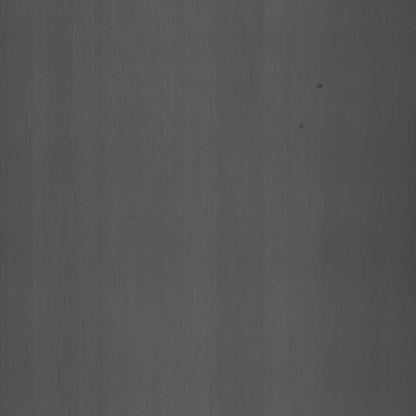inclusion: (295, 102, 308, 135), (313, 71, 327, 95)
